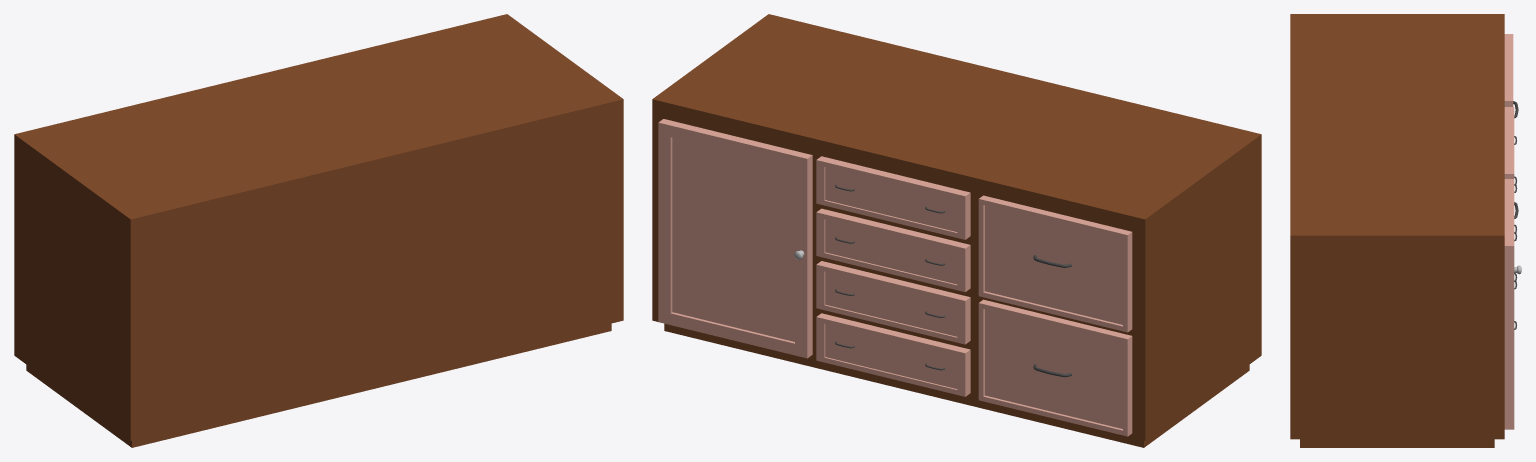
Rendered from SM_Comptoir01.fbx.
The picture shows the model from 3 angles, left to right: view 1: azimuth 30°, elevation 25°; view 2: azimuth 150°, elevation 25°; view 3: azimuth 270°, elevation 25°; orthographic projection. The views are drawn at different scales.
Visible parts, largest first — view 1: Cube.045; view 2: Cube.045, Cube.055, Cube.057, Cube.050; view 3: Cube.045, Cube.055, Cube.050, Cube.057.
Part boxes in pixels (bbox=[...]): Cube.045: bbox=[14, 14, 623, 447]; Cube.045: bbox=[652, 14, 1261, 447]; Cube.055: bbox=[658, 119, 812, 358]; Cube.057: bbox=[978, 195, 1132, 436]; Cube.050: bbox=[816, 156, 970, 396]; Cube.045: bbox=[1290, 14, 1504, 447]; Cube.055: bbox=[1504, 179, 1514, 429]; Cube.050: bbox=[1504, 107, 1514, 178]; Cube.057: bbox=[1504, 34, 1513, 106].
Size of the model in its own units: 11000 by 4990 by 4858.
